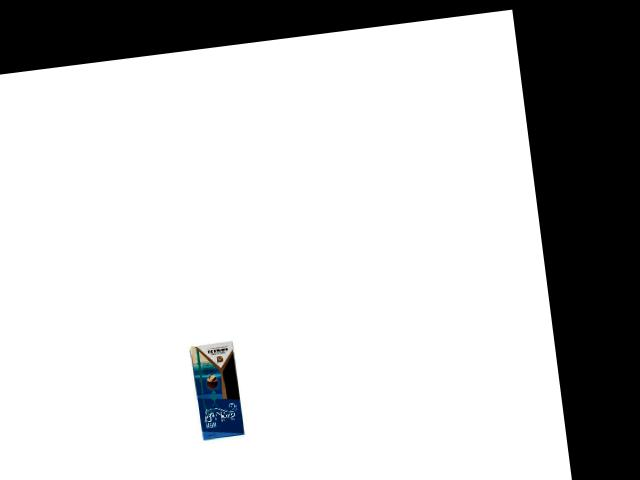chocolate: (188, 338, 247, 442)
